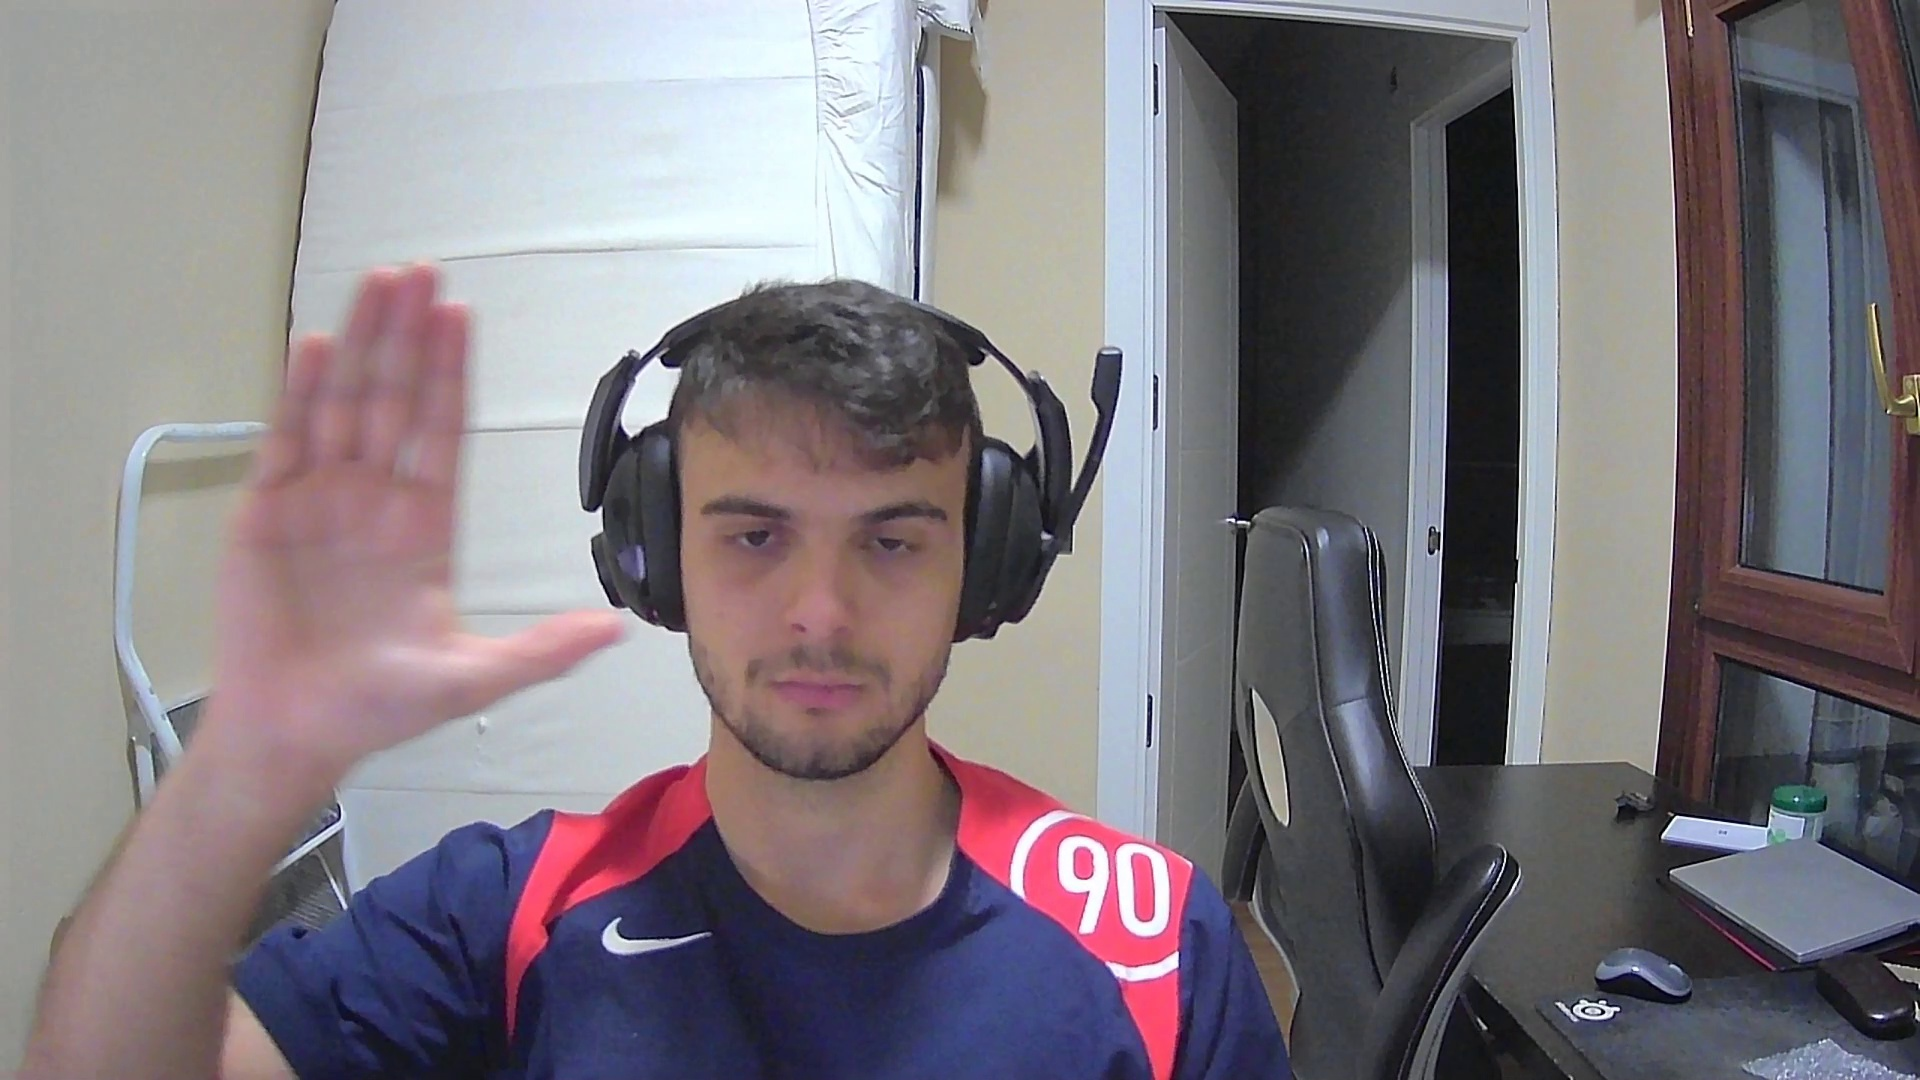Palm: (206, 253, 625, 723)
